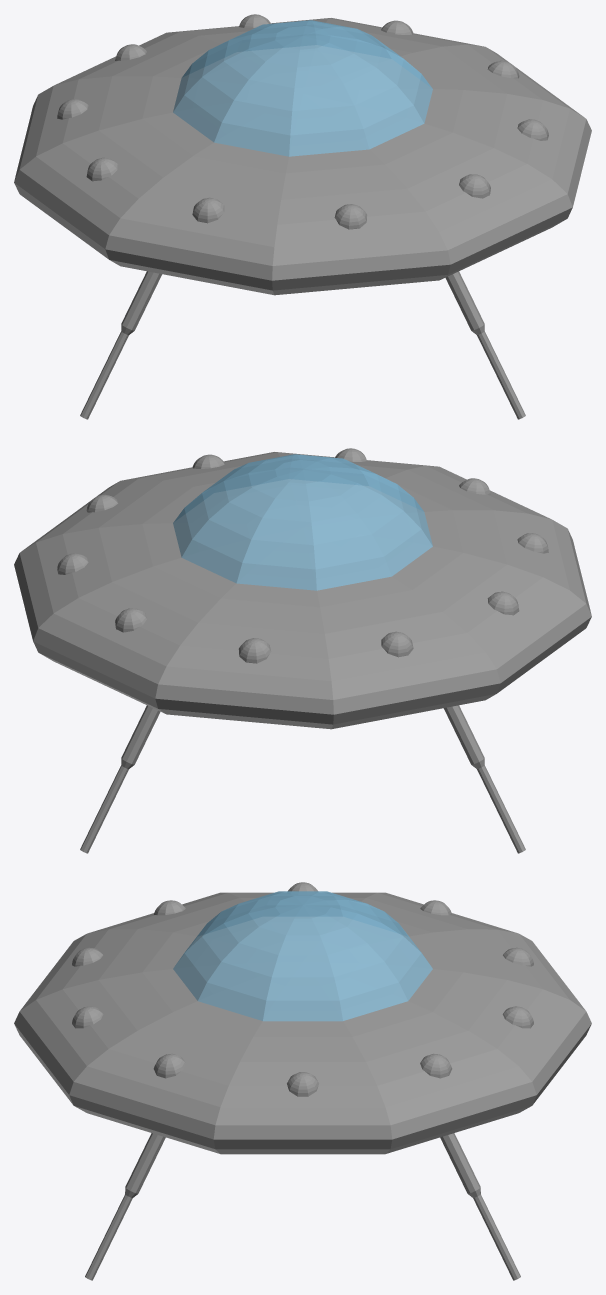
Rendered from Ufo.glb.
The picture shows the model from 3 angles, top to bottom: view 1: azimuth 30°, elevation 25°; view 2: azimuth 150°, elevation 25°; view 3: azimuth 270°, elevation 25°; orthographic projection. The views are drawn at different scales.
Parts seen in each view (by area): view 1: Cylinder; view 2: Cylinder; view 3: Cylinder.
Boxes of the visible parts, <box> form: Cylinder: <box>14,14,591,419</box>; Cylinder: <box>14,448,591,853</box>; Cylinder: <box>14,882,591,1280</box>.
Bounding box in the file's own units: 21.08 × 13.68 × 22.16.
